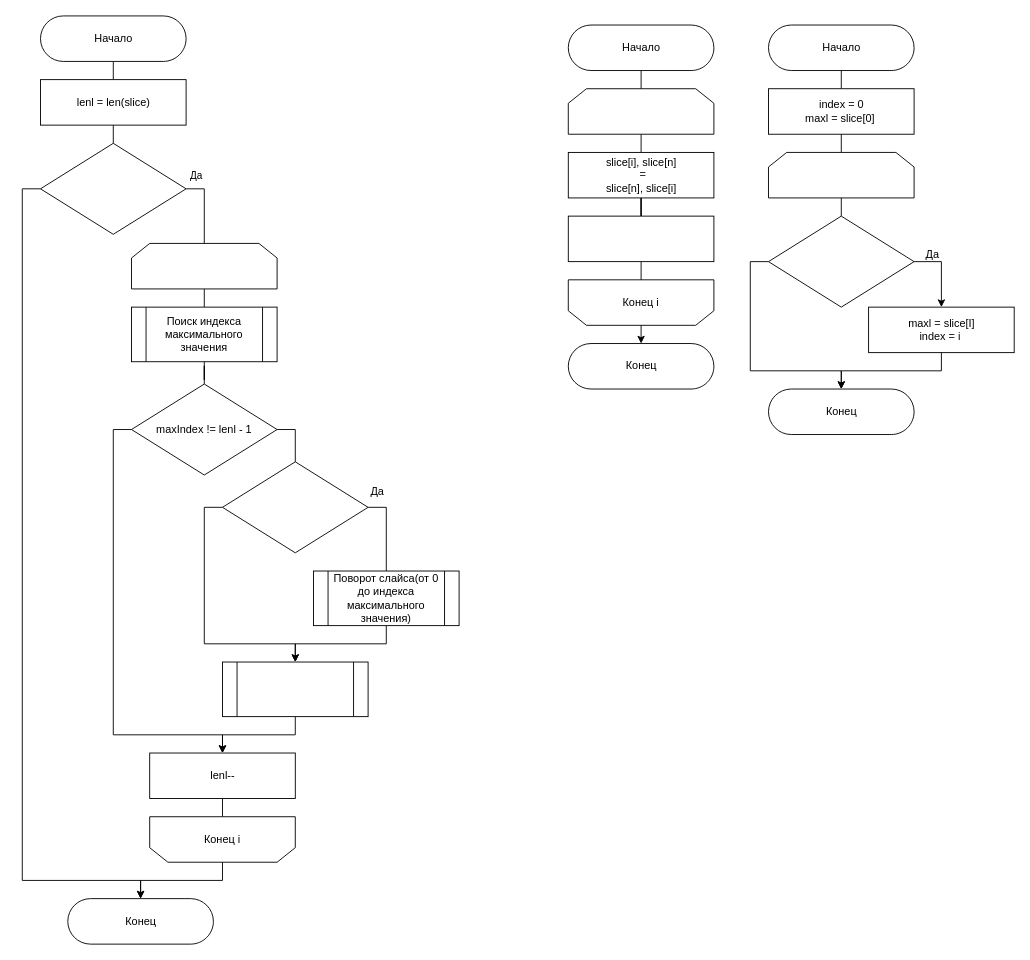
Image size: 1030x960. Some labels were removed from this diagram. Here are the shapes that lost their labels. From the top down, the box of each, then its label:
(567, 88, 714, 134): i; i < n
(40, 142, 186, 234): lenl > 1
(768, 152, 914, 198): i; i < lenl;
(567, 215, 714, 262): n--
(131, 243, 277, 289): i = lenl; i > 1; i--
(768, 215, 914, 307): slice[i] > maxl
(222, 461, 368, 553): maxIndex != 0
(222, 661, 368, 717): Поворот слайса(от 0 до индекса текущей длины)
